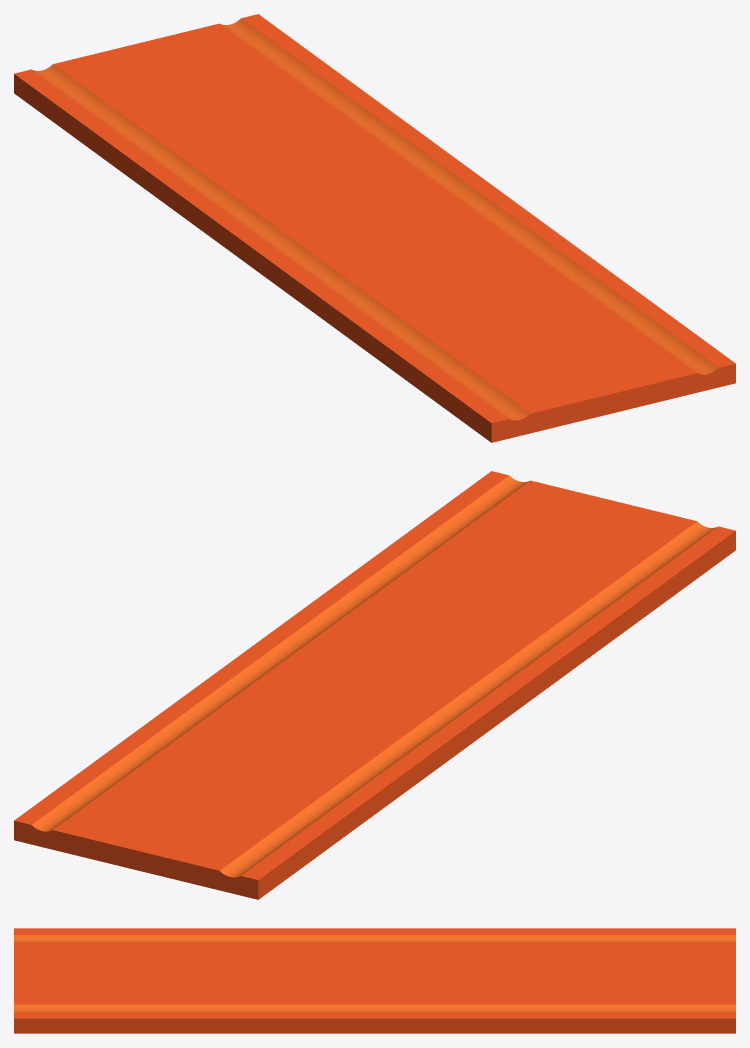
Rendered from BowlingLane.glb.
The picture shows the model from 3 angles, top to bottom: view 1: azimuth 30°, elevation 25°; view 2: azimuth 150°, elevation 25°; view 3: azimuth 270°, elevation 25°; orthographic projection. The views are drawn at different scales.
Parts seen in each view (by area): view 1: Floor; view 2: Floor; view 3: Floor.
Boxes of the visible parts, <box> form: Floor: <box>14,14,735,442</box>; Floor: <box>14,471,735,899</box>; Floor: <box>14,928,735,1033</box>.
Size of the model in its own units: 13 by 1 by 44.
